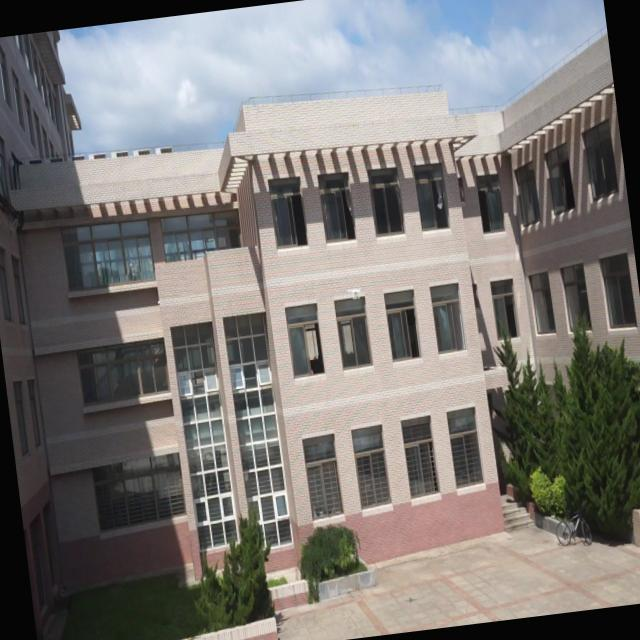drone: (341, 280, 369, 306)
